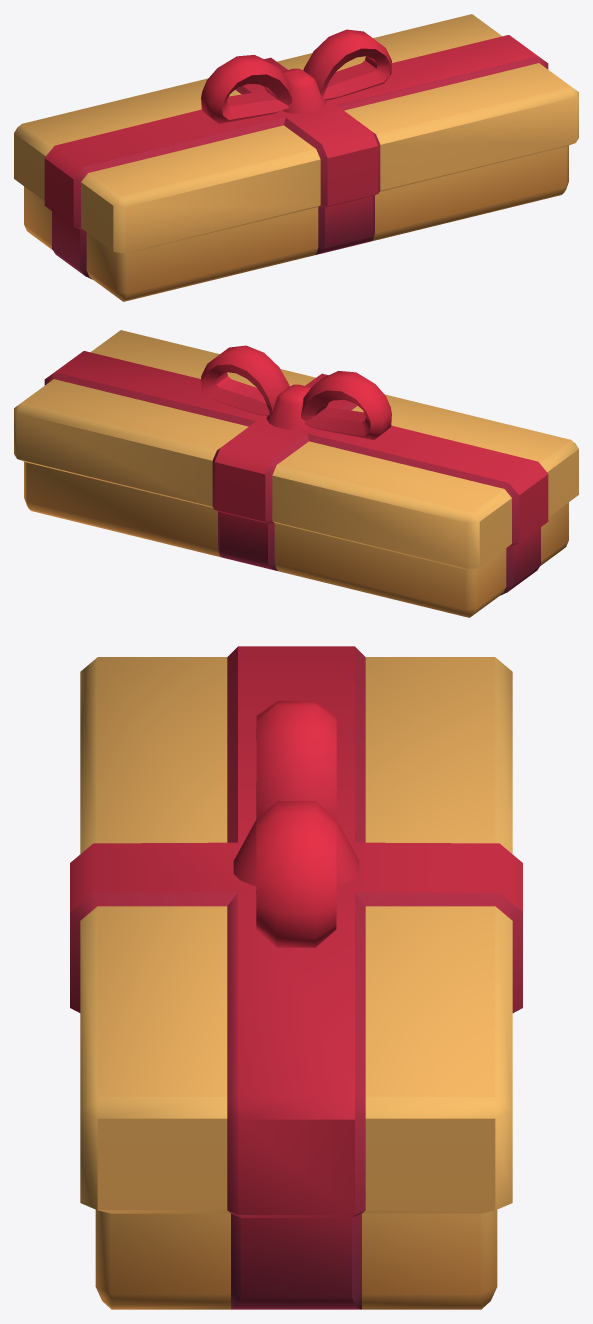
The model's file is present_E_yellow.obj.
3 views of the same model, one above another, from view 1: azimuth 30°, elevation 25°; view 2: azimuth 150°, elevation 25°; view 3: azimuth 270°, elevation 25° (orthographic). The views are drawn at different scales.
Parts seen in each view (by area): view 1: present_E_yellow; view 2: present_E_yellow; view 3: present_E_yellow.
Part boxes in pixels (x1,y1,x2,y2): present_E_yellow: [14, 14, 578, 301]; present_E_yellow: [14, 330, 578, 617]; present_E_yellow: [70, 646, 522, 1309].
Size of the model in its own units: 1.36 by 0.4617 by 0.5638.
1 material, 1 textured.
